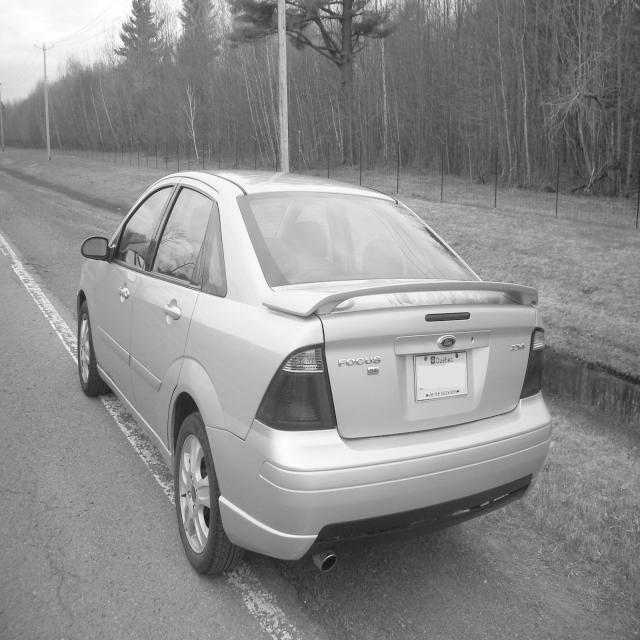car: (75, 167, 552, 576)
